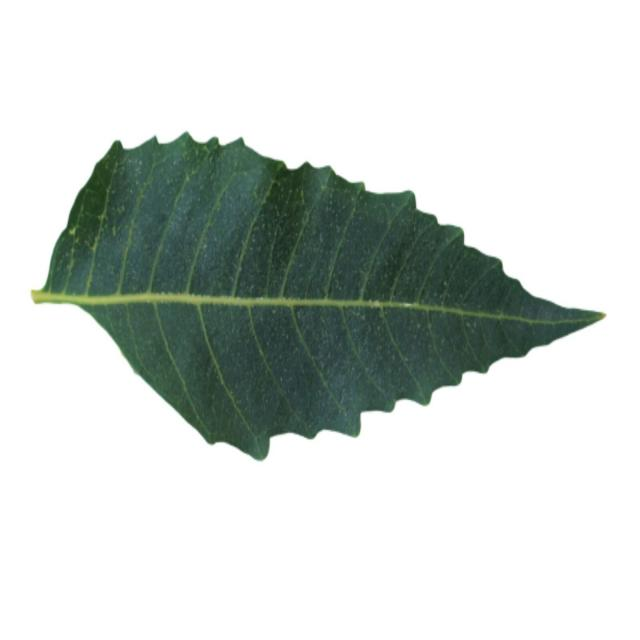Medicinal-Neem: (30, 120, 606, 456)
